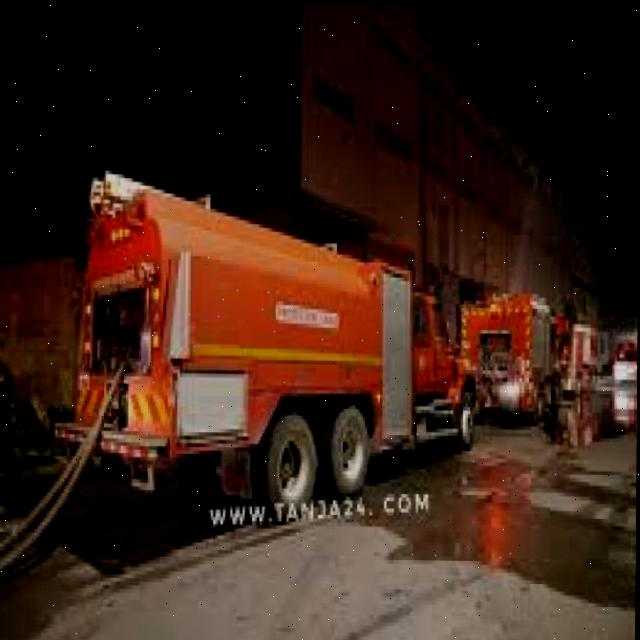emergency: (72, 143, 486, 530)
